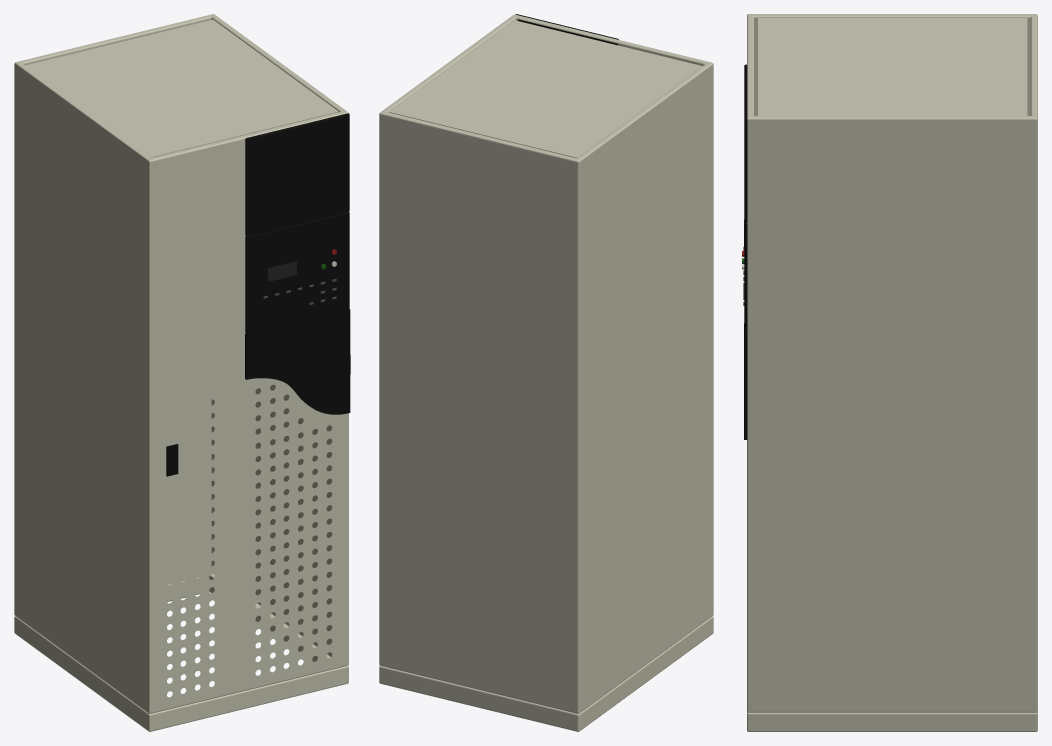
Rendered from UPS.FBX.
The picture shows the model from 3 angles, left to right: view 1: azimuth 30°, elevation 25°; view 2: azimuth 150°, elevation 25°; view 3: azimuth 270°, elevation 25°; orthographic projection. The views are drawn at different scales.
Parts seen in each view (by area): view 1: UPS 0.7*0.82*1.9; view 2: UPS 0.7*0.82*1.9; view 3: UPS 0.7*0.82*1.9.
Part boxes in pixels (box(x1,y1,x2,y2)): UPS 0.7*0.82*1.9: box(14, 14, 350, 731); UPS 0.7*0.82*1.9: box(379, 14, 713, 731); UPS 0.7*0.82*1.9: box(742, 14, 1037, 731).
Bounding box in the file's own units: 700 × 1910 × 834.
7 materials, 1 textured.
